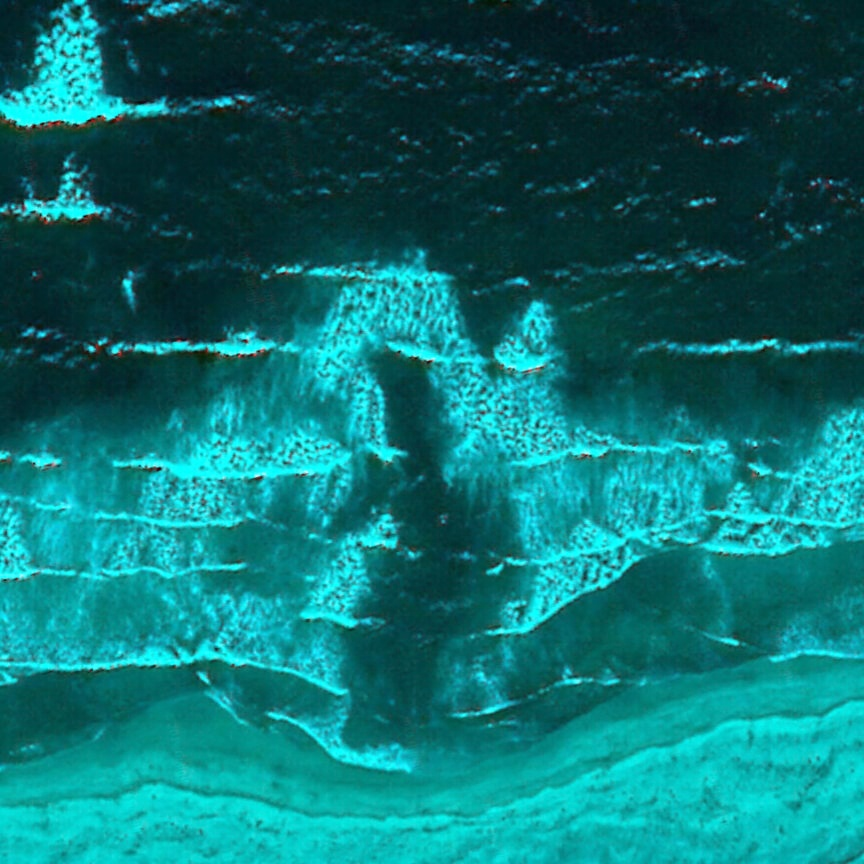rip_current: (248, 268, 594, 716)
